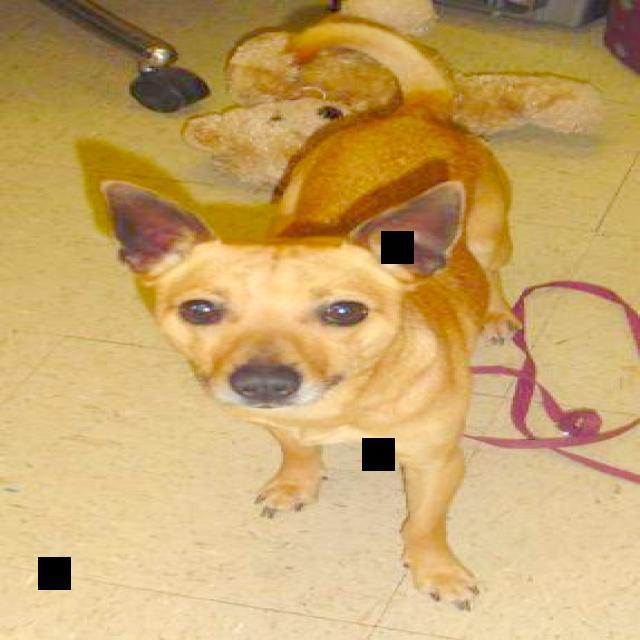adult_dog: (91, 10, 514, 619)
